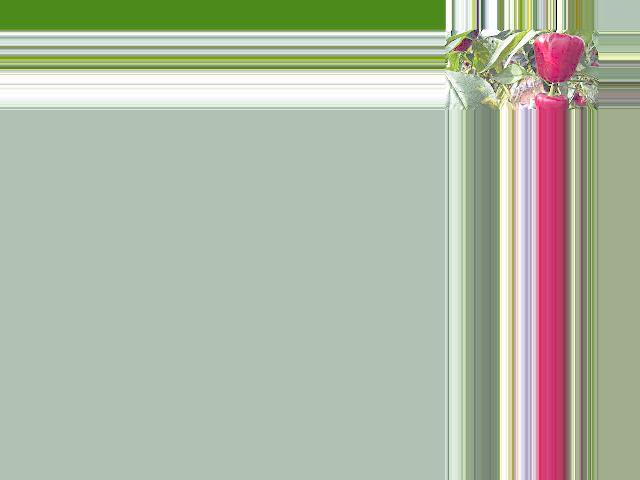bell_pepper: (530, 89, 570, 110)
